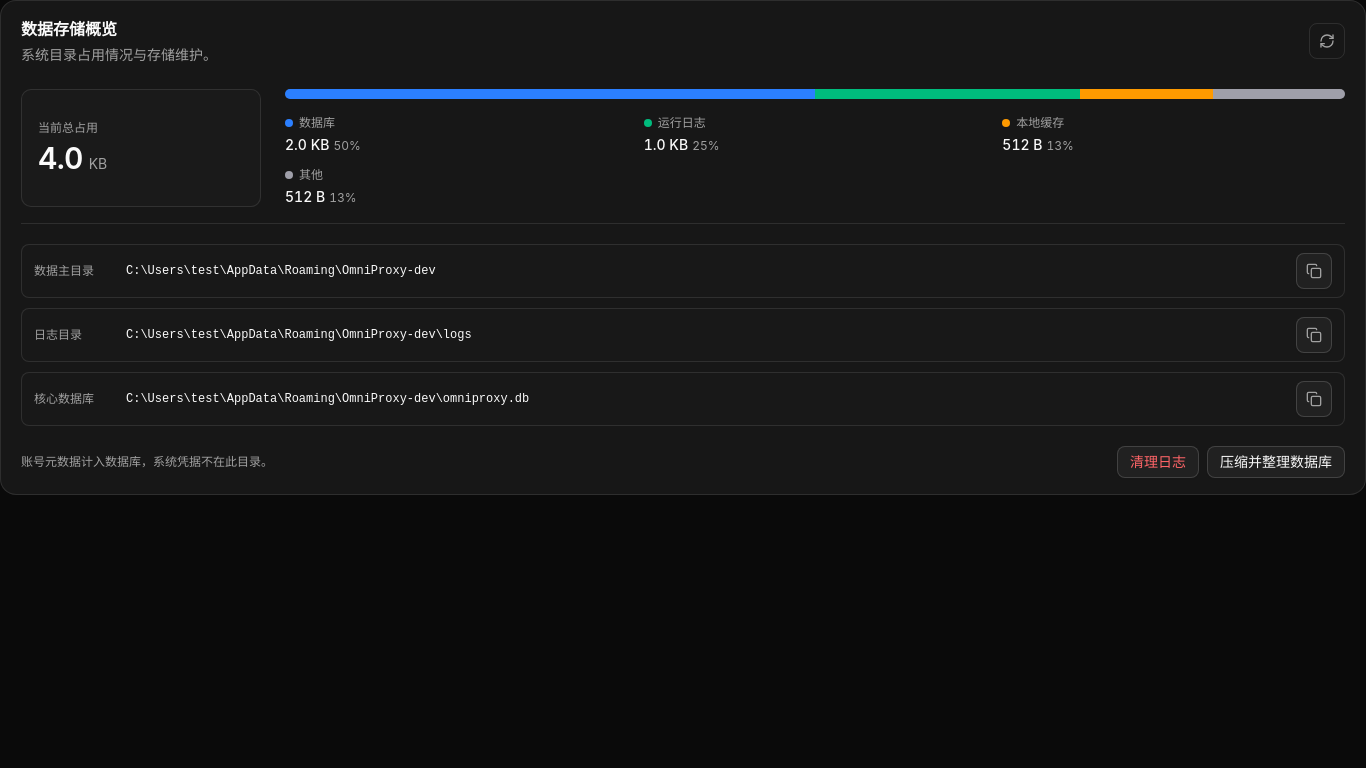
StorageOverview › copies the real data directory and reports the result
The image size is (1366, 768).
Click the button named "复制数据主目录路径".
click(1314, 271)  # box left=1296, top=253, right=1332, bottom=289
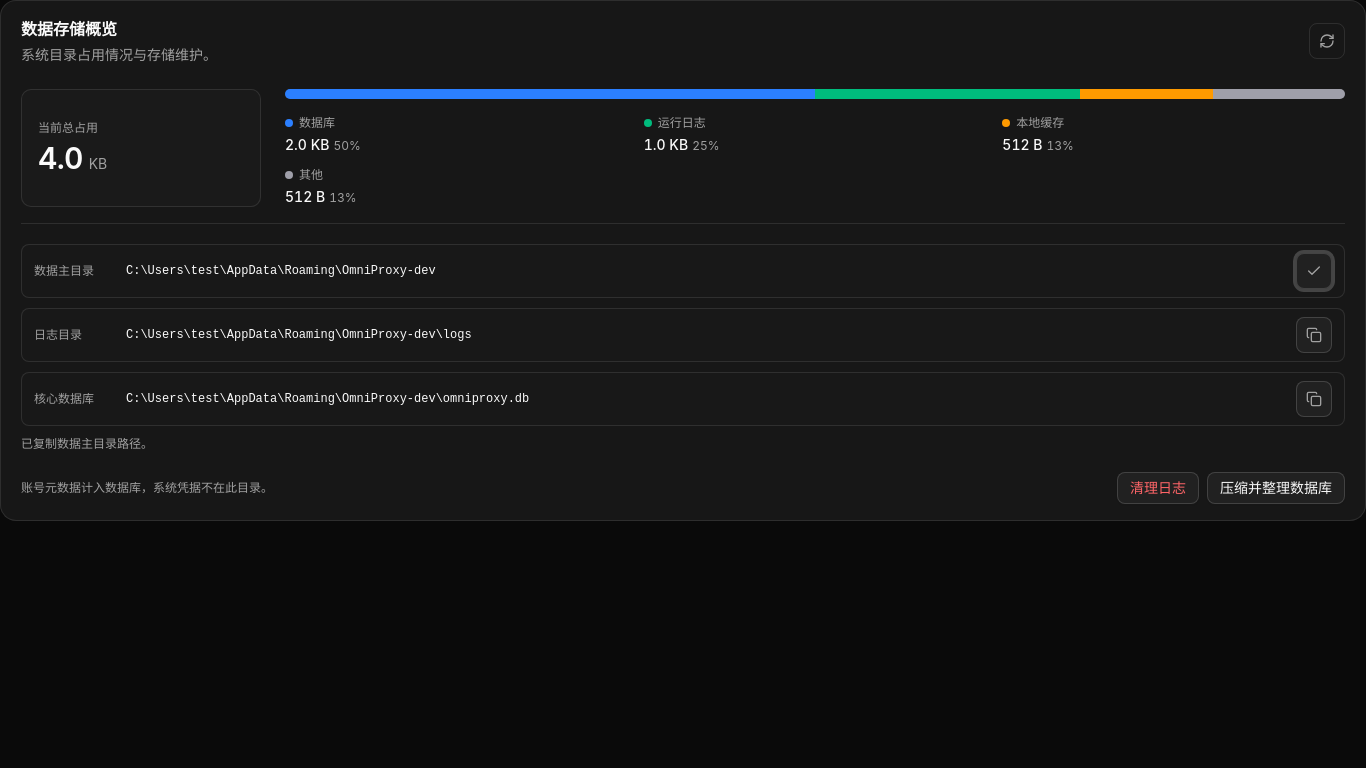
Check: the message reads "已复制数据主目录路径。", box left=21, top=436, right=153, bottom=451
